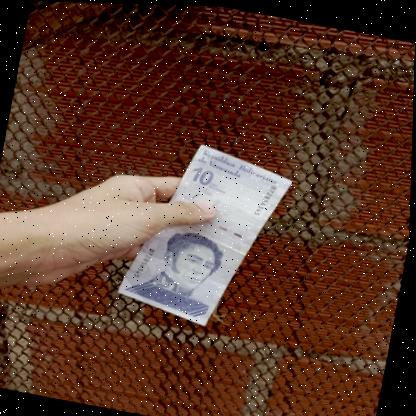ten-front-vef: (116, 132, 296, 334)
